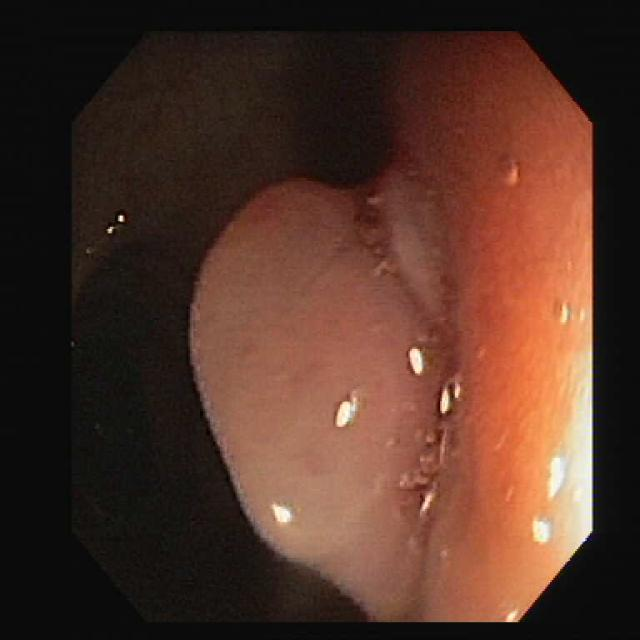tumor: (190, 171, 463, 613)
